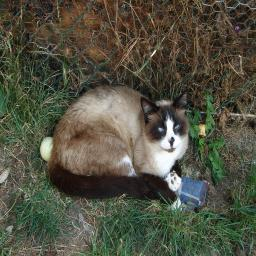catnose: (167, 137, 176, 150)
